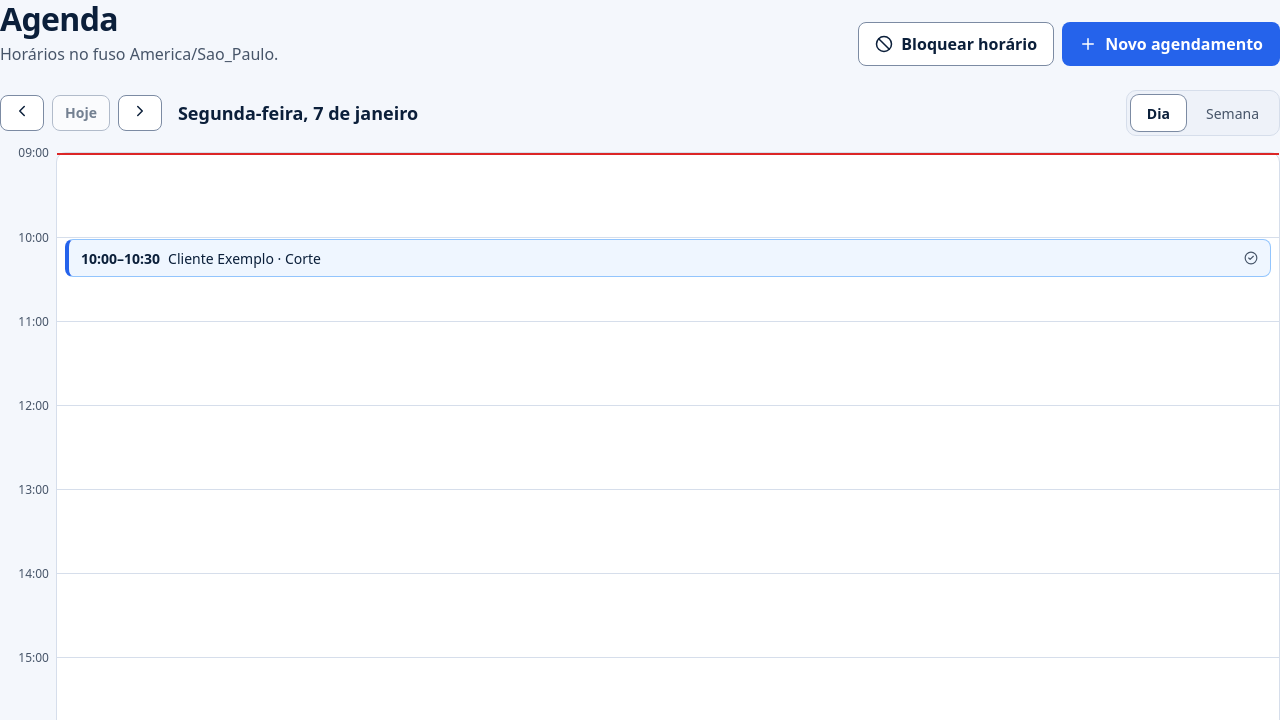
Test case: AgendaPage › avisa (sem bloquear) quando o horário está fora do expediente
Expected: the text "Cliente Exemplo · Corte" is shown, [168,248,321,269]
Click the button "Novo agendamento" at (1171, 44), box [1062,22,1279,66]
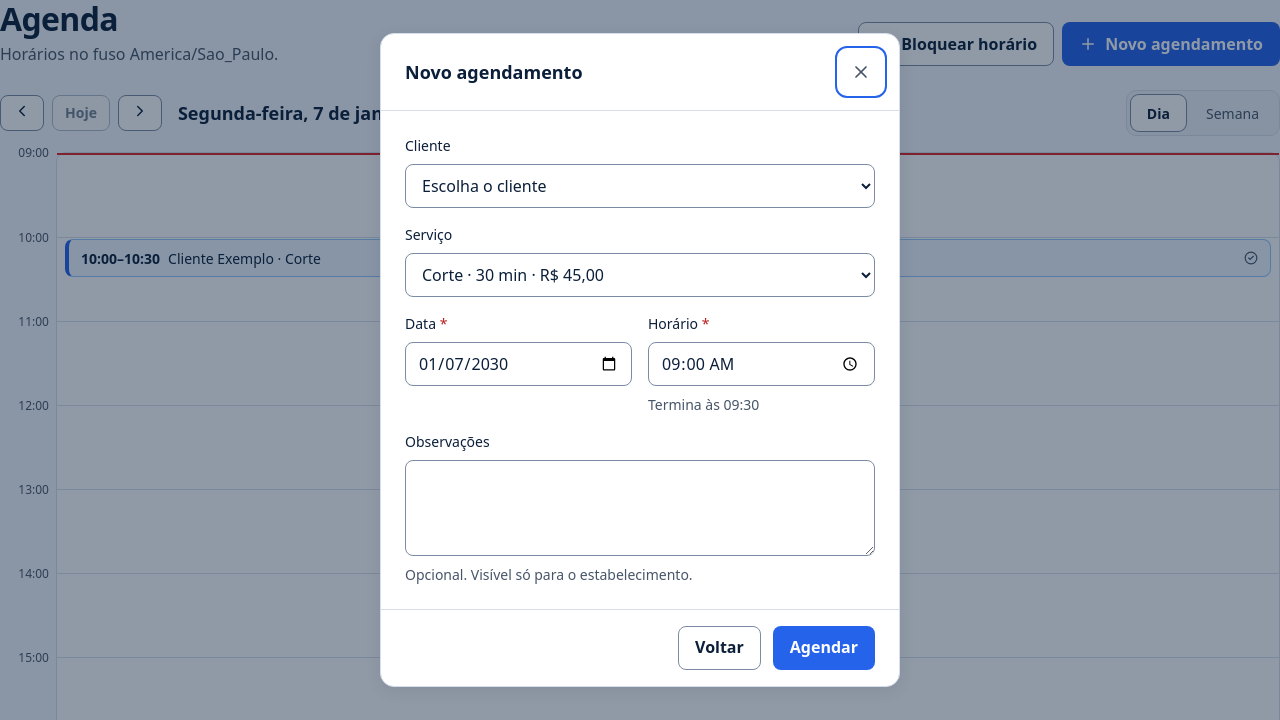
Replace the text in the time field labelled "Horário *" with "19:00" at (762, 364), box [648,342,875,386]
(page scrolled)
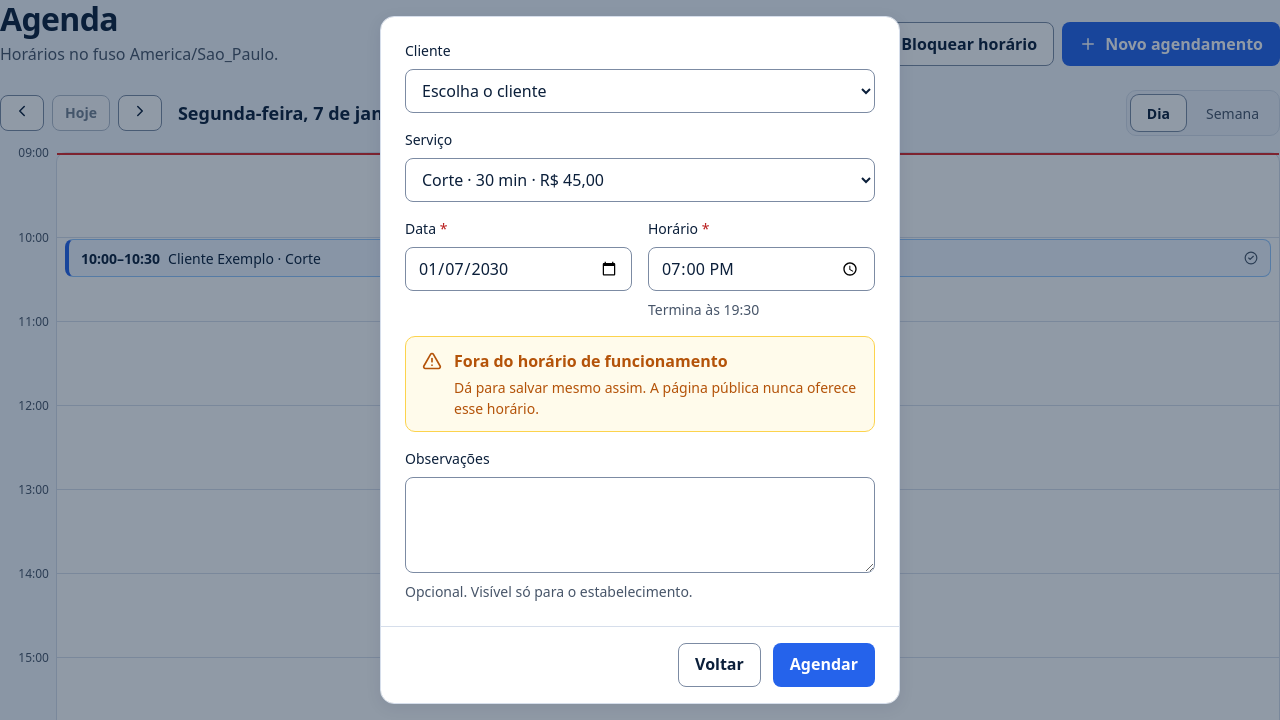
Now the button "Agendar" is enabled, box [773,643,875,687]
Now the text "Fora do horário de funcionamento" is shown, box [454,350,728,372]
